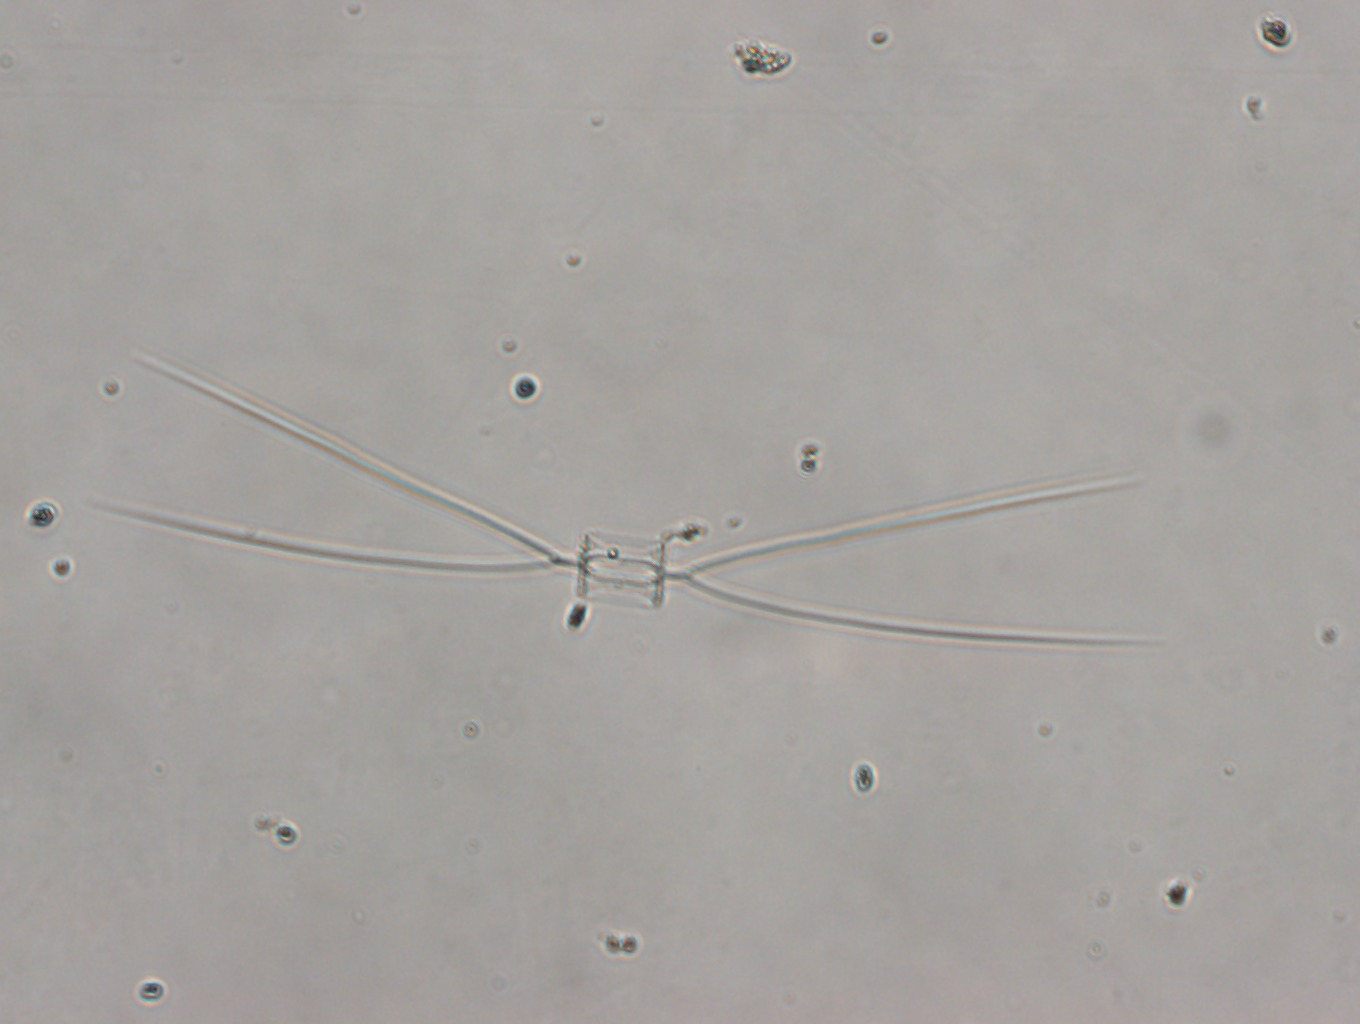chaetoceros: (89, 350, 1173, 645)
